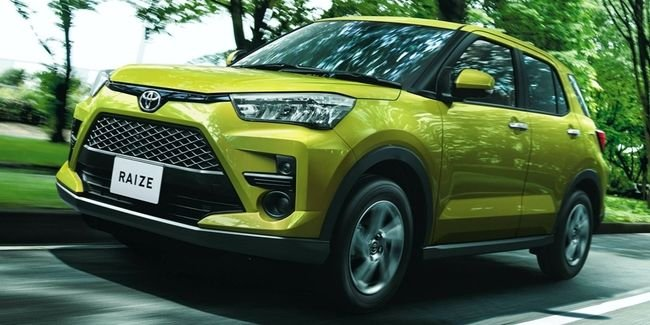mobil: (57, 3, 607, 302)
